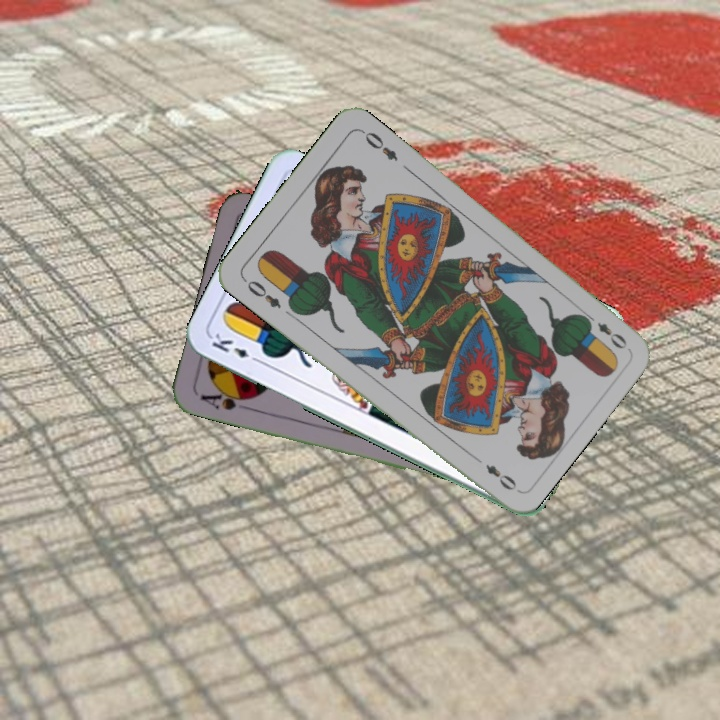EK: (207, 329, 264, 366)
EO: (580, 309, 630, 352), (239, 274, 284, 311)
SA: (196, 384, 255, 413)
